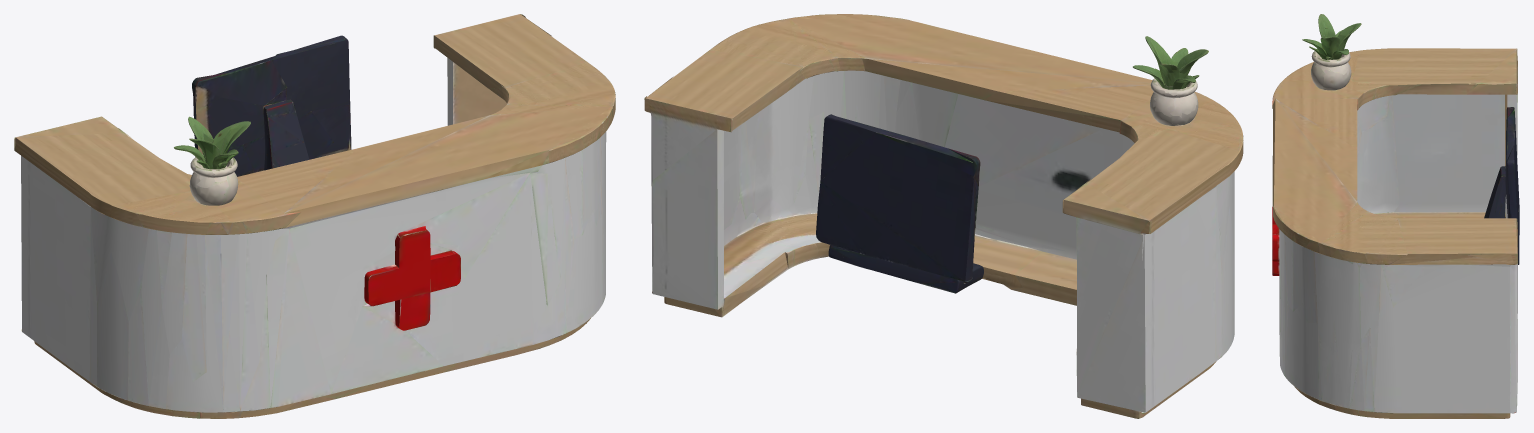
File: desk.glb
The picture shows the model from 3 angles, left to right: view 1: azimuth 30°, elevation 25°; view 2: azimuth 150°, elevation 25°; view 3: azimuth 270°, elevation 25°; orthographic projection. The views are drawn at different scales.
Bounding box in the file's own units: 1.9 × 0.9895 × 0.9639.
1 material, 1 textured.
